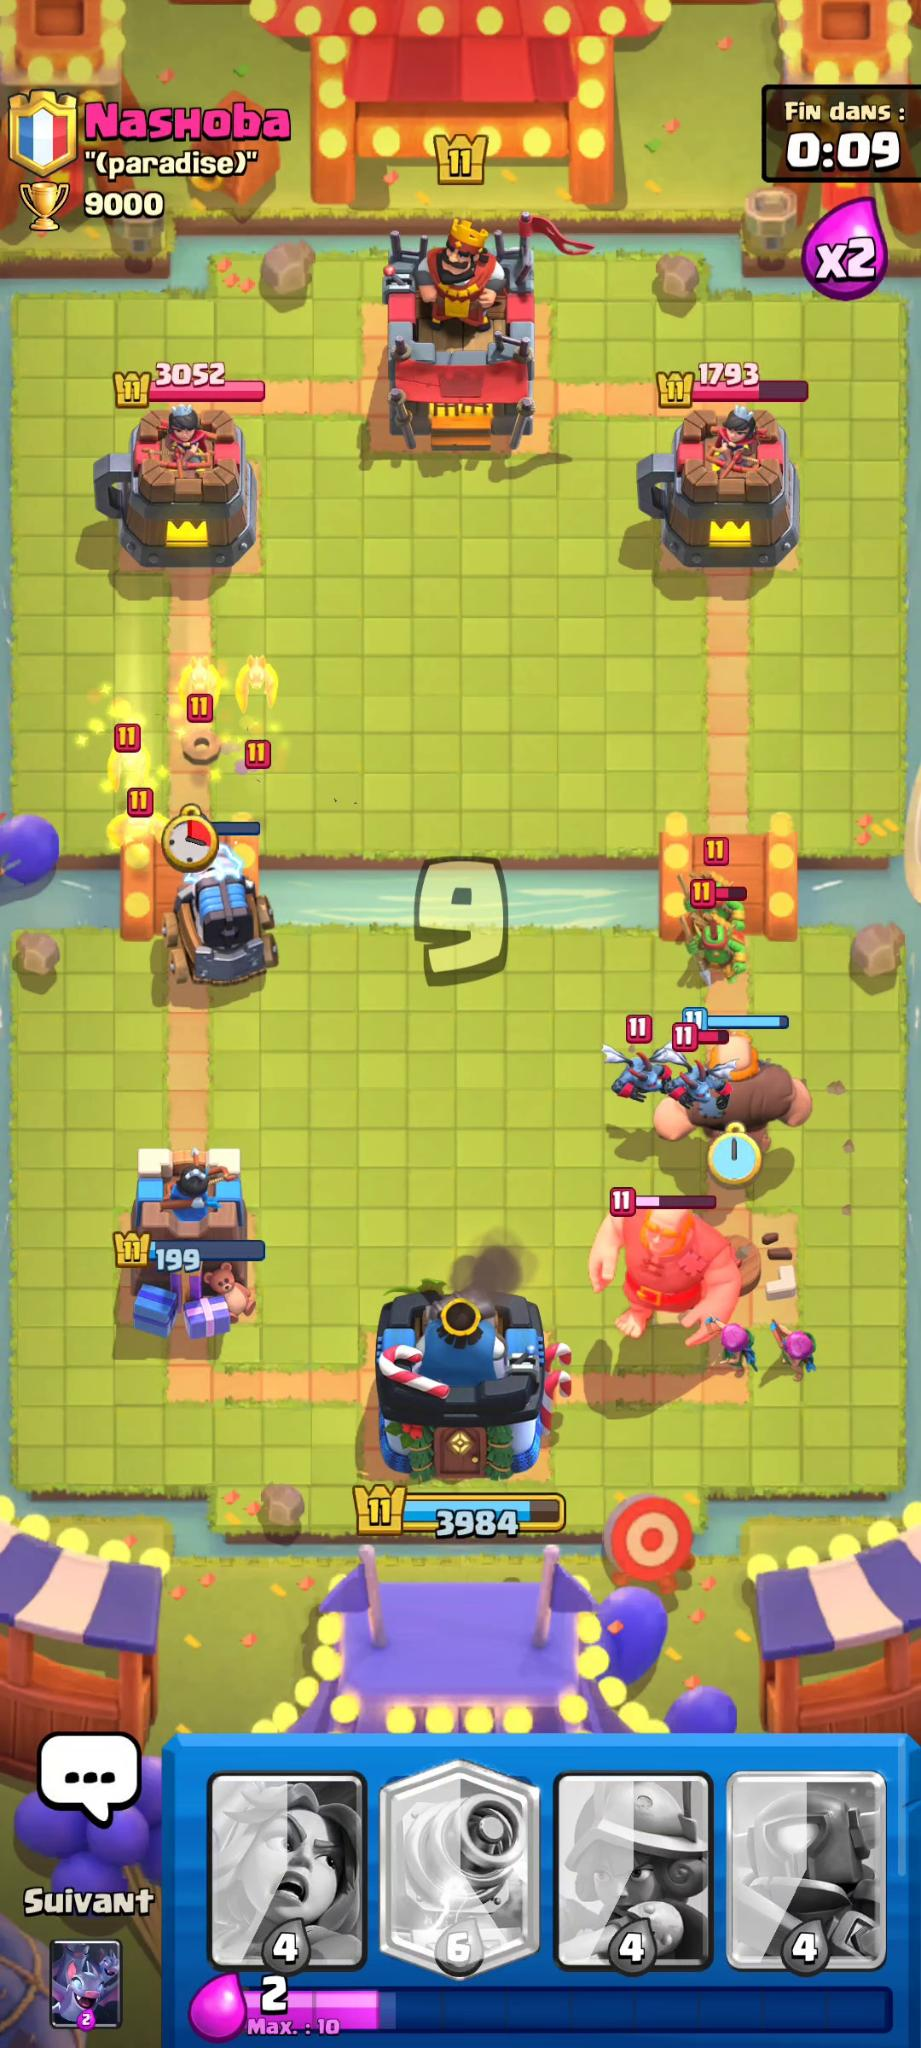archere: (707, 1310, 767, 1381), (773, 1320, 831, 1388)
bat: (95, 716, 172, 811), (165, 661, 238, 714), (95, 797, 165, 850)
gargouille: (610, 1031, 661, 1106), (687, 1061, 719, 1108)
geant: (592, 1202, 726, 1354), (679, 1044, 789, 1160)
gobelin_lances: (687, 913, 756, 986), (688, 869, 745, 934)
zappy: (150, 848, 281, 1003)
